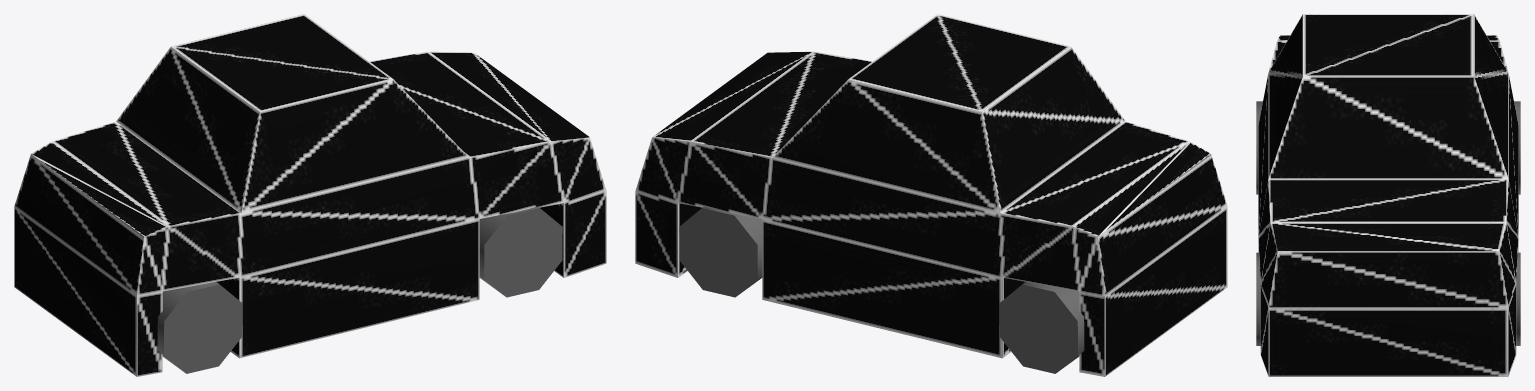
Rendered from car.dae.
3 views of the same model, side by side, from view 1: azimuth 30°, elevation 25°; view 2: azimuth 150°, elevation 25°; view 3: azimuth 270°, elevation 25° (orthographic). The views are drawn at different scales.
Visible parts, largest first — view 1: polySurface5, polySurface3, polySurface4; view 2: polySurface5, polySurface3, polySurface4; view 3: polySurface5, polySurface4, polySurface3.
Part boxes in pixels (left/top/right/bottom): polySurface5: left=14, top=14, right=606, bottom=376; polySurface3: left=157, top=282, right=242, bottom=373; polySurface4: left=479, top=206, right=562, bottom=297; polySurface5: left=635, top=14, right=1227, bottom=376; polySurface3: left=999, top=282, right=1084, bottom=373; polySurface4: left=679, top=206, right=762, bottom=297; polySurface5: left=1258, top=14, right=1518, bottom=376; polySurface4: left=1256, top=252, right=1520, bottom=345; polySurface3: left=1256, top=101, right=1520, bottom=194.
Size of the model in its own units: 35.64 by 16.16 by 18.18.
